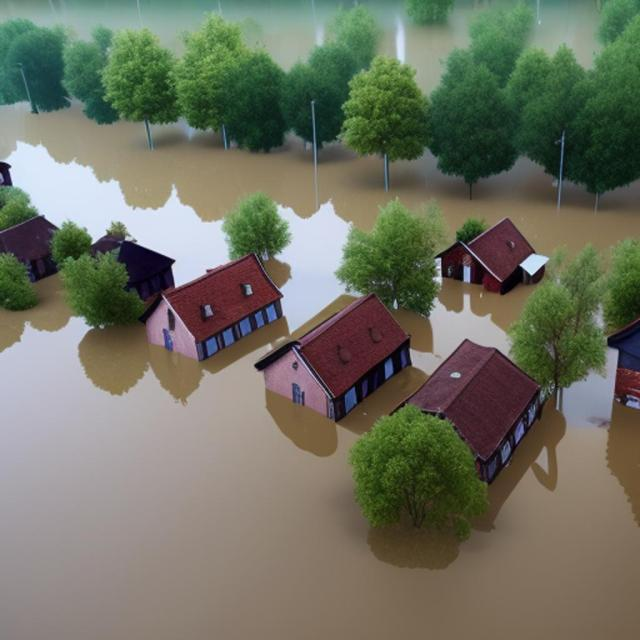flood: (0, 105, 640, 640), (0, 0, 513, 93), (391, 154, 640, 254), (529, 0, 602, 67)
house: (386, 334, 546, 484), (256, 288, 406, 440), (150, 244, 286, 370), (444, 213, 548, 298), (0, 198, 58, 280), (118, 237, 174, 307), (605, 311, 640, 407)
